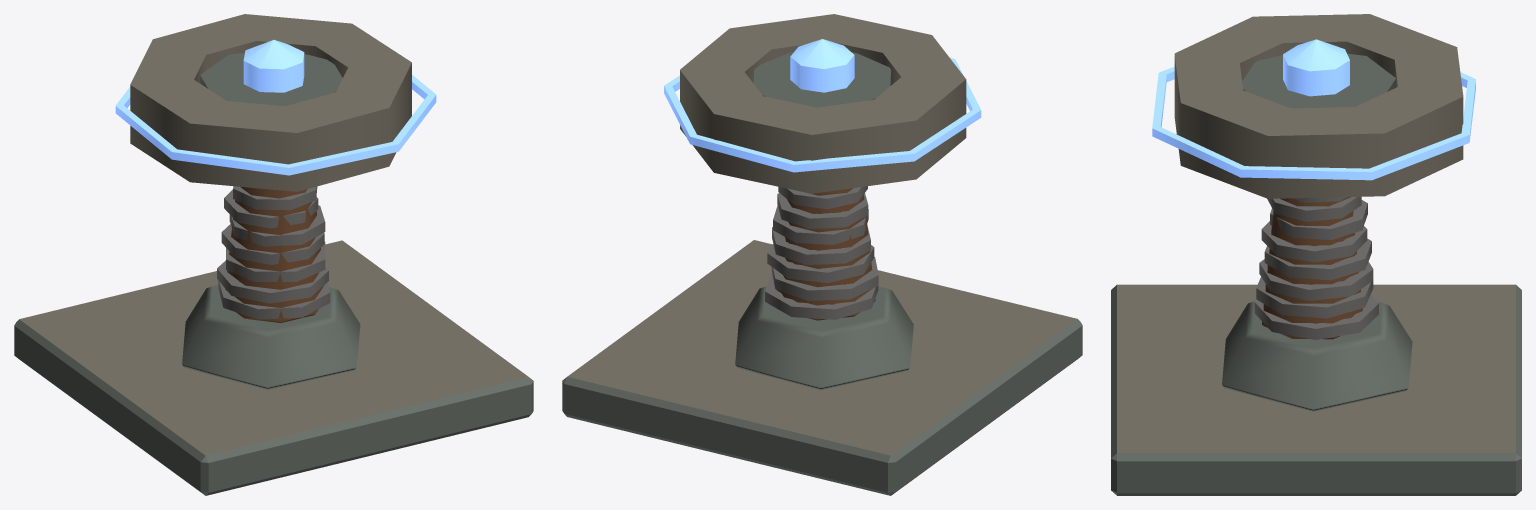
Rendered from R4X_AreaEMP_LOD1.fbx.
3 views of the same model, side by side, from view 1: azimuth 30°, elevation 25°; view 2: azimuth 150°, elevation 25°; view 3: azimuth 270°, elevation 25° (orthographic). The views are drawn at different scales.
Visible parts, largest first — view 1: R4X_AreaEMP_LOD1; view 2: R4X_AreaEMP_LOD1; view 3: R4X_AreaEMP_LOD1.
Part boxes in pixels (x1,y1,x2,y2): R4X_AreaEMP_LOD1: [14, 14, 533, 495]; R4X_AreaEMP_LOD1: [562, 14, 1082, 495]; R4X_AreaEMP_LOD1: [1111, 14, 1521, 495].
Bounding box in the file's own units: 0.52 × 0.52 × 0.52.
